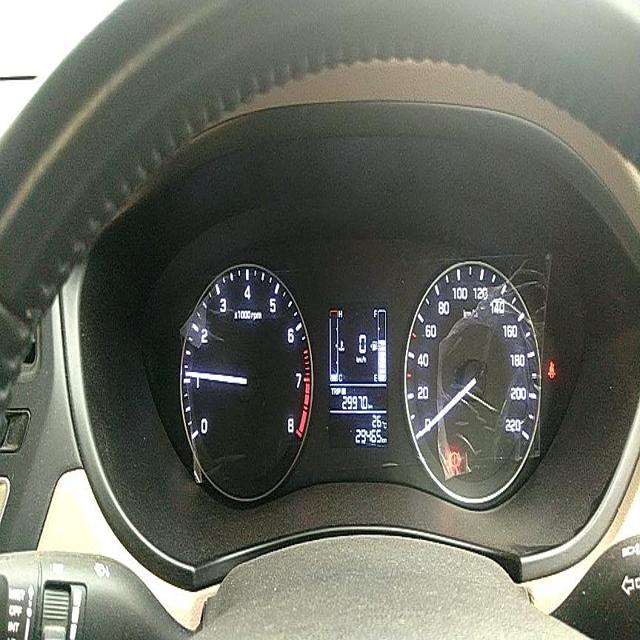odometer: (353, 426, 382, 445)
